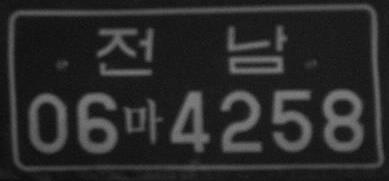0: (27, 92, 69, 155)
2: (218, 89, 264, 155)
4: (170, 89, 211, 153)
5: (270, 88, 314, 153)
6: (74, 90, 119, 154)
8: (321, 87, 366, 153)
마: (122, 97, 162, 144)
전남_D: (97, 23, 288, 76)
